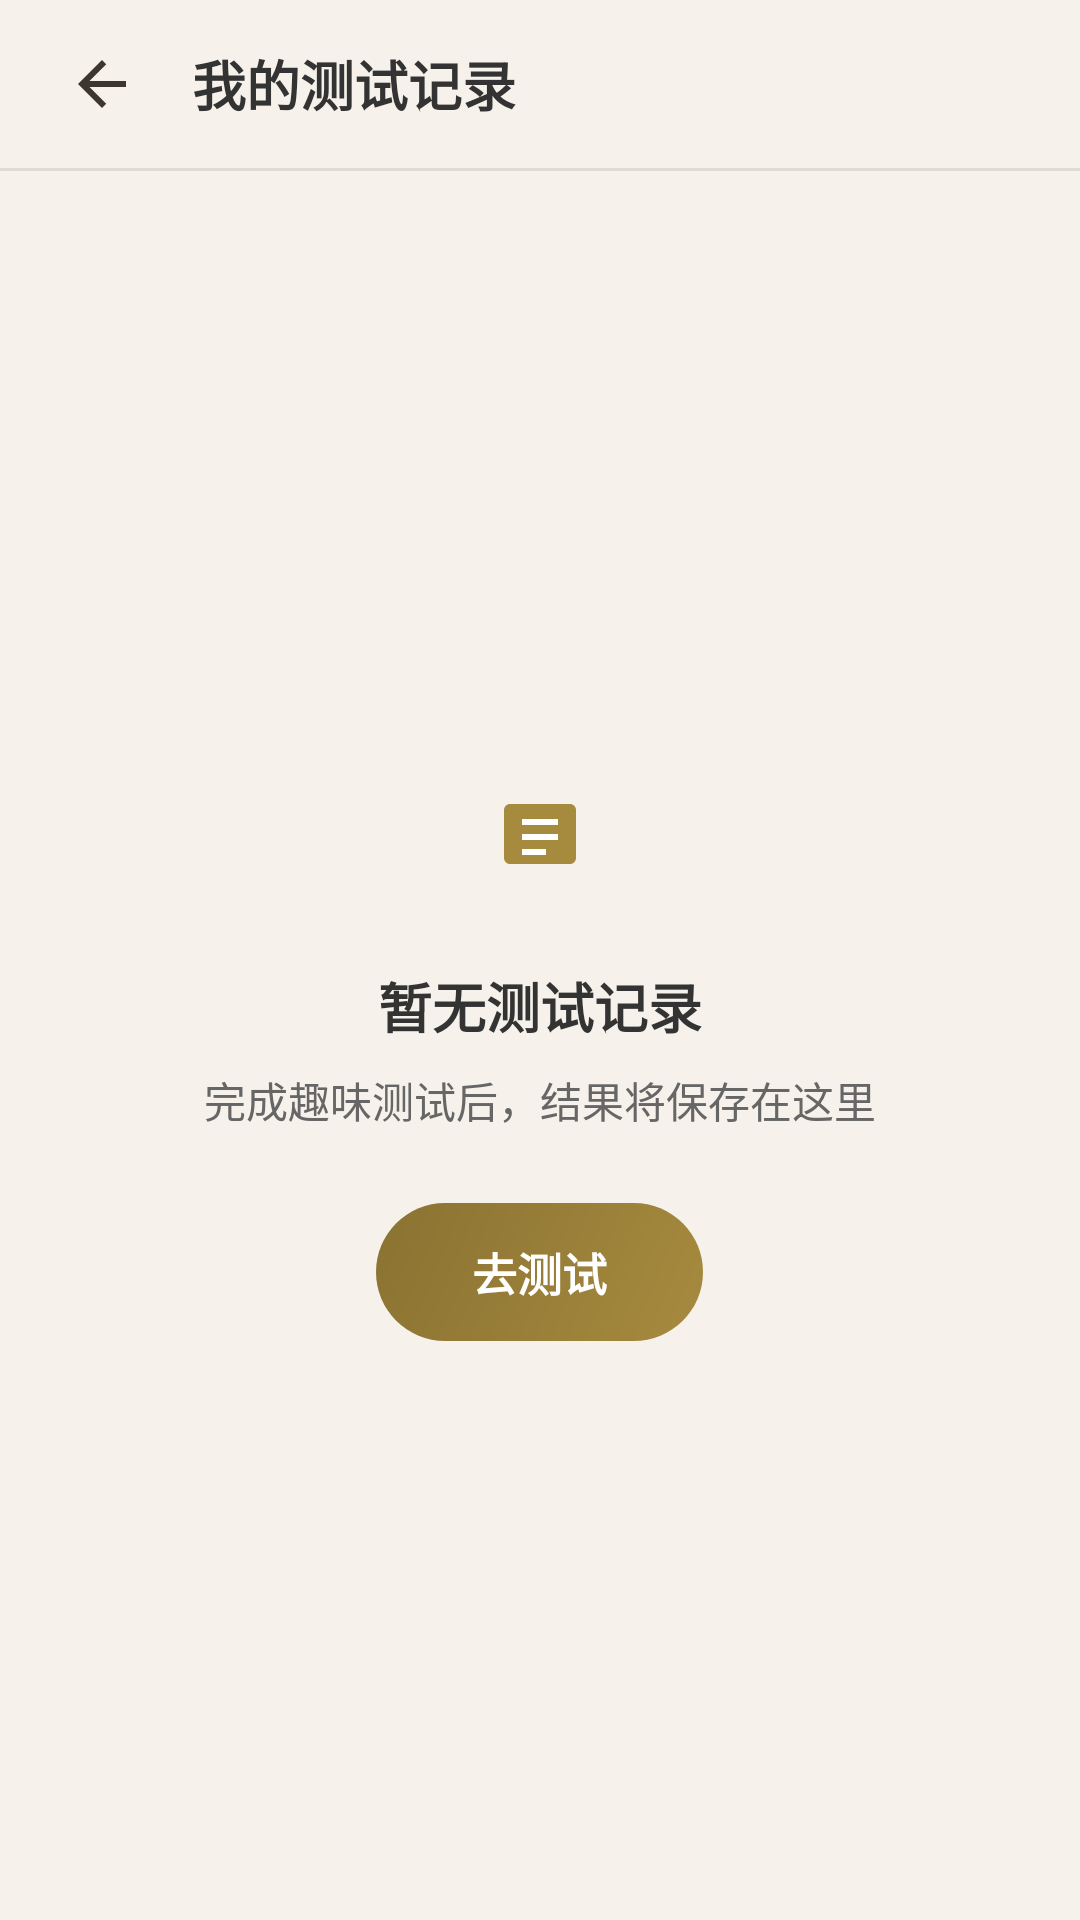

Where icons sit on this 1080 x 1920 app screen, as [left=x1, top=y1, right=x2, bottom=y2]:
空状态图标: [left=504, top=804, right=576, bottom=864]
返回: [left=78, top=60, right=126, bottom=108]
